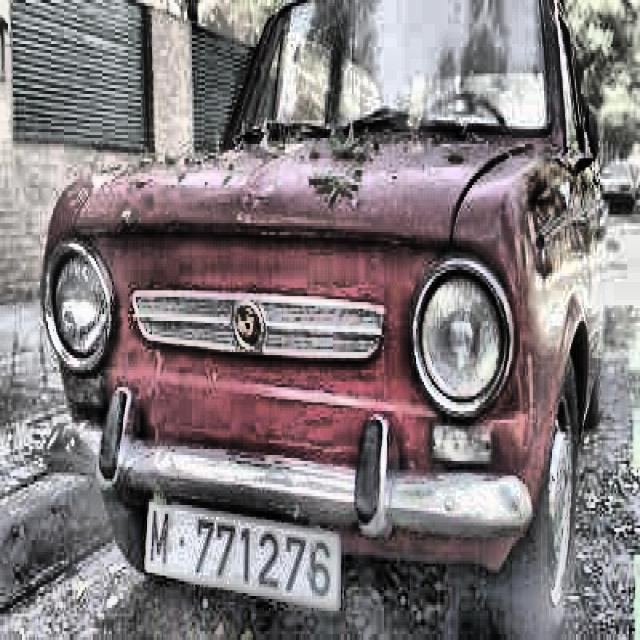license_plate: (147, 504, 334, 606)
